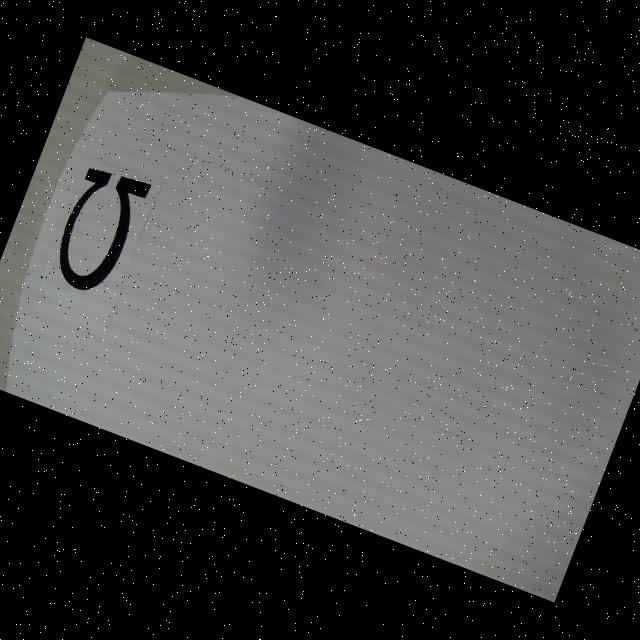OMEGA: (46, 160, 152, 302)
